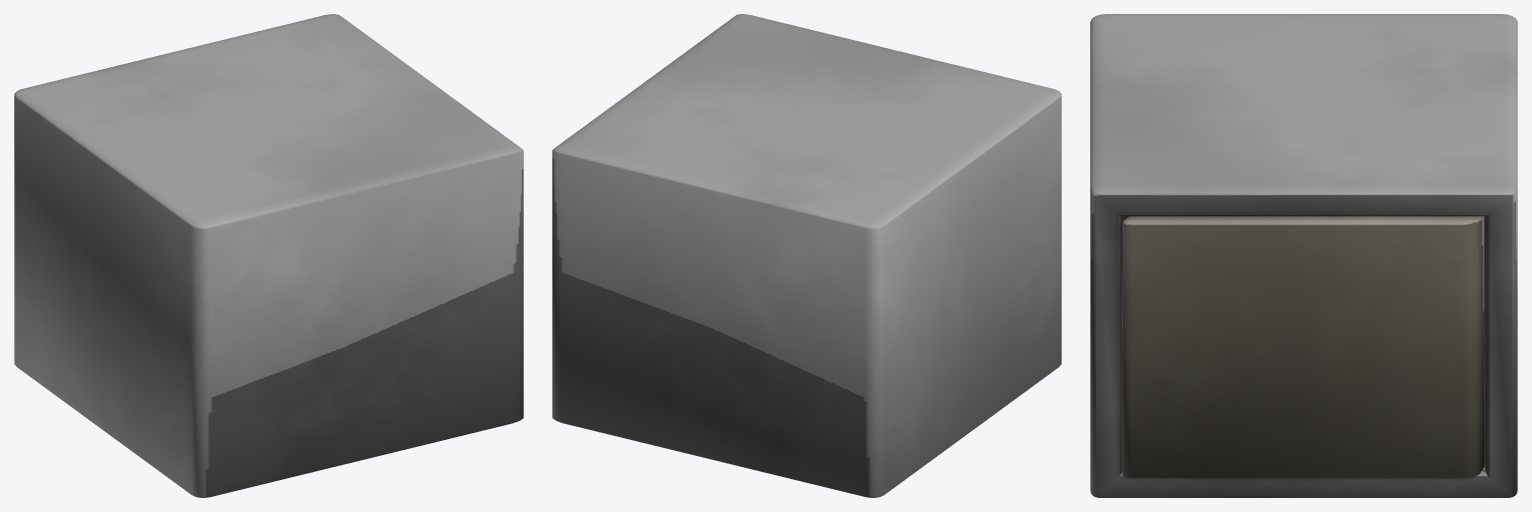
Rendered from Rak.fbx.
3 renders of one model, left to right at view 1: azimuth 30°, elevation 25°; view 2: azimuth 150°, elevation 25°; view 3: azimuth 270°, elevation 25°, orthographic. The views are drawn at different scales.
Parts seen in each view (by area): view 1: Cube.050; view 2: Cube.050; view 3: Cube.050, Cube.051.
Part boxes in pixels (x1,y1,x2,y2): Cube.050: (14, 14, 523, 497); Cube.050: (552, 14, 1061, 497); Cube.050: (1090, 14, 1517, 497); Cube.051: (1122, 216, 1484, 478).
Bounding box in the file's own units: 60.75 × 47.86 × 59.82.
